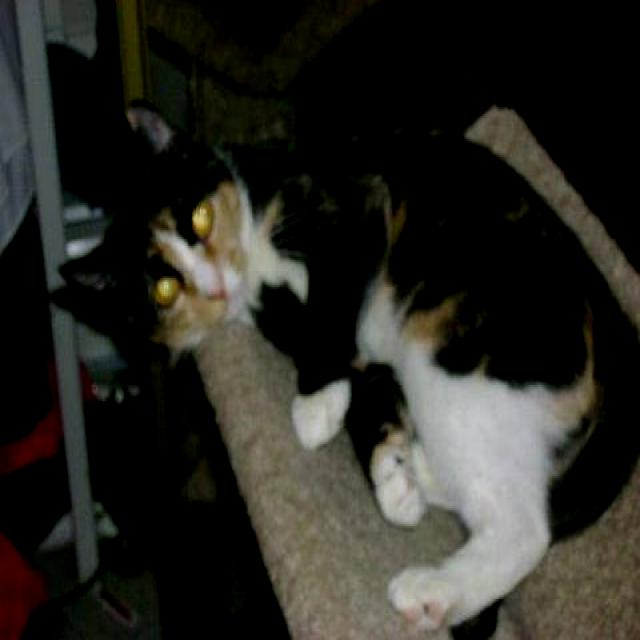Kucing: (55, 57, 640, 640)
